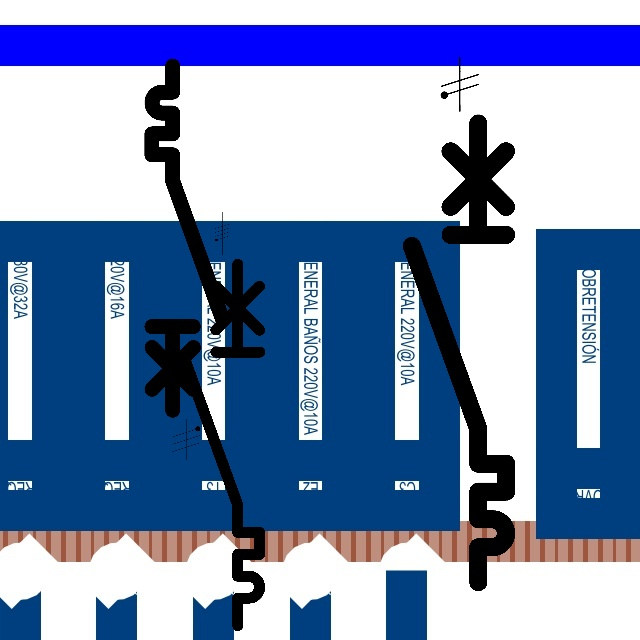interruptor_termomagnetico: (400, 111, 518, 593), (176, 254, 269, 634), (143, 57, 231, 418)
